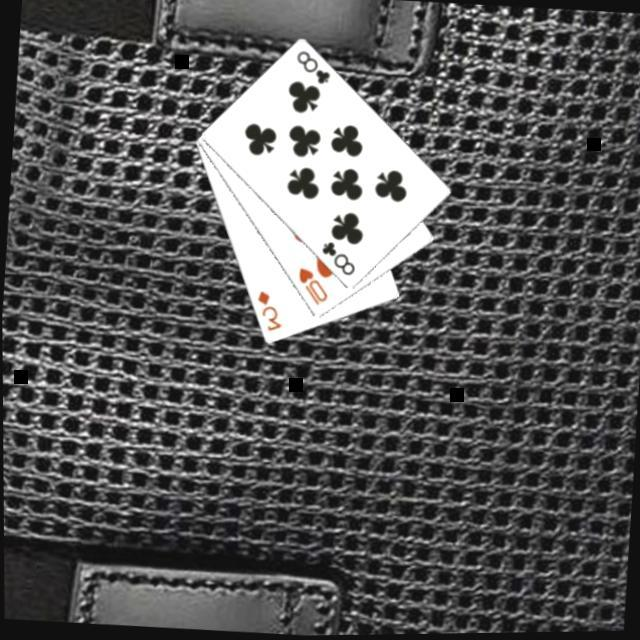10H: (292, 262, 331, 308)
3D: (250, 285, 285, 333)
8C: (314, 235, 359, 279), (290, 46, 334, 88)
